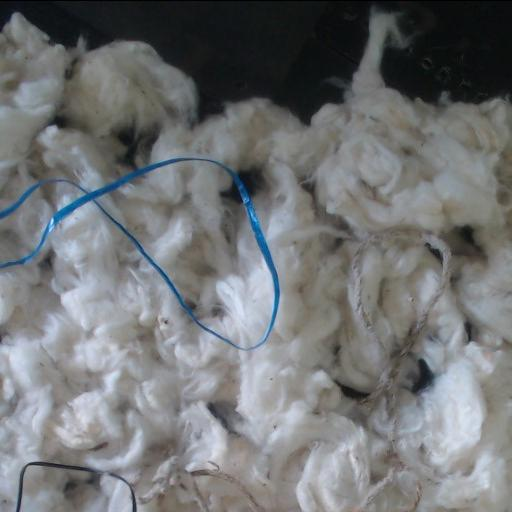cotton: (0, 21, 511, 512)
jute: (349, 229, 452, 410)
thread: (0, 158, 280, 350), (15, 461, 136, 512), (185, 461, 263, 512)
